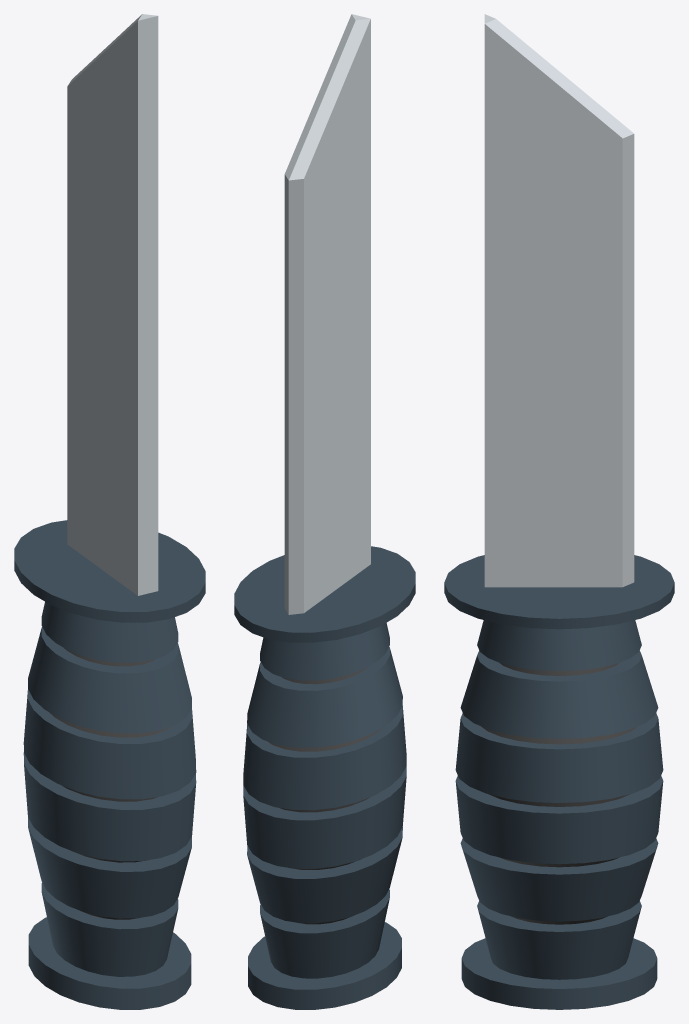
File: knife_sharp.obj
3 renders of one model, left to right at view 1: azimuth 30°, elevation 25°; view 2: azimuth 150°, elevation 25°; view 3: azimuth 270°, elevation 25°, orthographic. The views are drawn at different scales.
Parts seen in each view (by area): view 1: knife_sharp; view 2: knife_sharp; view 3: knife_sharp.
Part boxes in pixels (box(x1,y1,x2,y2)): knife_sharp: box(14, 14, 205, 1009); knife_sharp: box(234, 14, 415, 1009); knife_sharp: box(444, 14, 674, 1009).
Bounding box in the file's own units: 0.0574 × 0.3522 × 0.0766.
